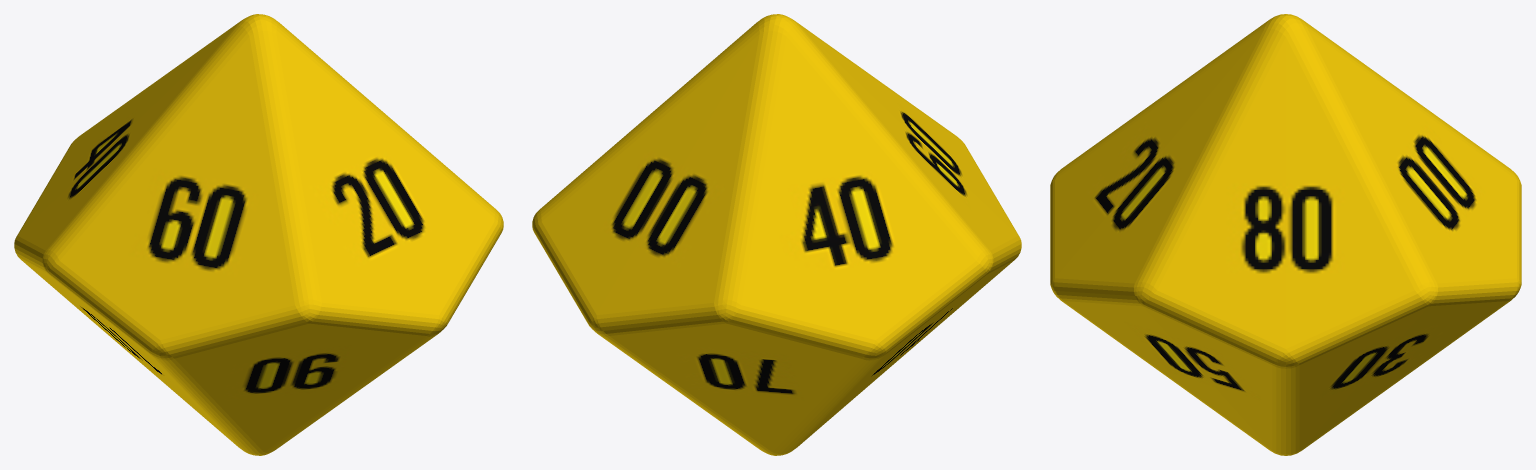
File: d10cent.obj
3 renders of one model, left to right at view 1: azimuth 30°, elevation 25°; view 2: azimuth 150°, elevation 25°; view 3: azimuth 270°, elevation 25°, orthographic.
Visible parts, largest first — view 1: D10_00_90; view 2: D10_00_90; view 3: D10_00_90.
Part boxes in pixels (bbox=[...]): D10_00_90: bbox=[14, 14, 503, 455]; D10_00_90: bbox=[532, 14, 1021, 455]; D10_00_90: bbox=[1050, 14, 1521, 455].
Bounding box in the file's own units: 2.12 × 2.09 × 2.03.
Materials: 1 (1 with a texture image).
